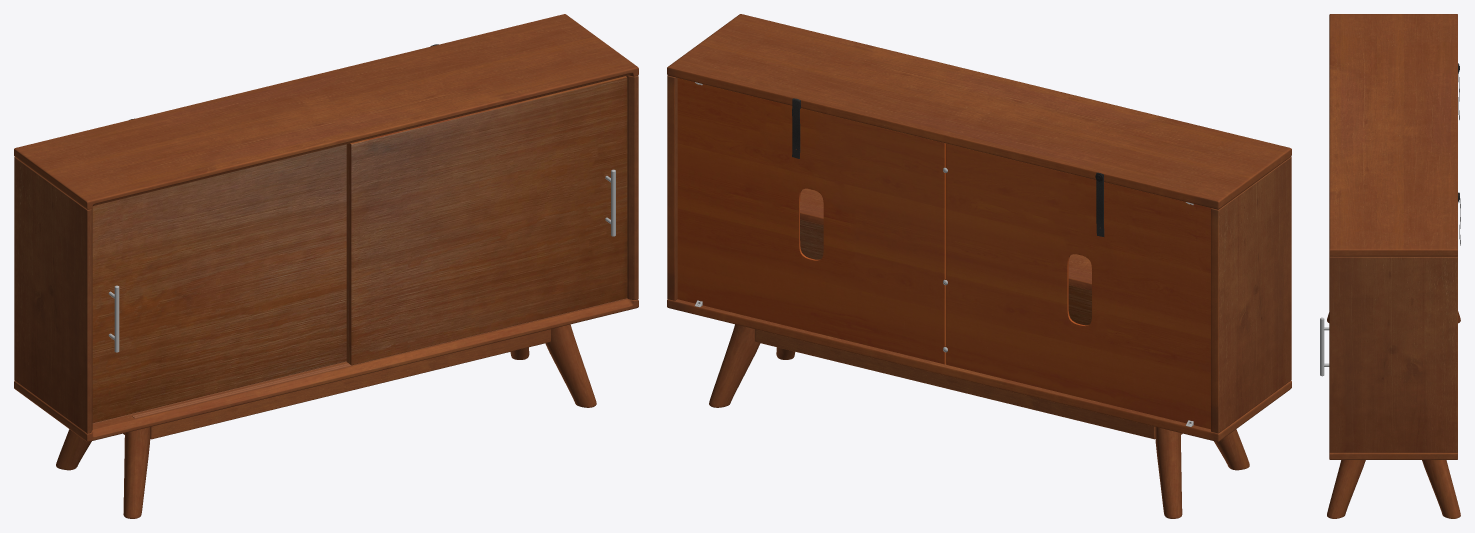
Rendered from rivet_media_console.glb.
3 views of the same model, side by side, from view 1: azimuth 30°, elevation 25°; view 2: azimuth 150°, elevation 25°; view 3: azimuth 270°, elevation 25° (orthographic). The views are drawn at different scales.
Parts seen in each view (by area): view 1: RootNode; view 2: RootNode; view 3: RootNode.
Boxes of the visible parts, <box> form: RootNode: <box>14,14,638,518</box>; RootNode: <box>667,14,1291,518</box>; RootNode: <box>1320,14,1460,518</box>.
Size of the model in its own units: 1.22 by 0.6976 by 0.3075.
1 material, 1 textured.
